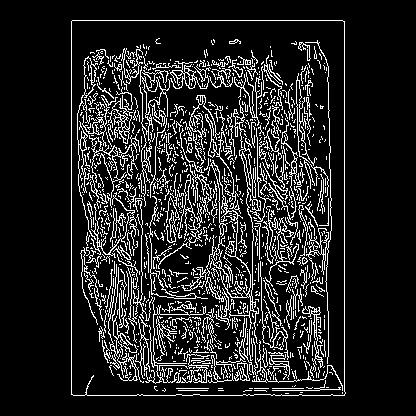buddha-sitting: (98, 230, 202, 268)
